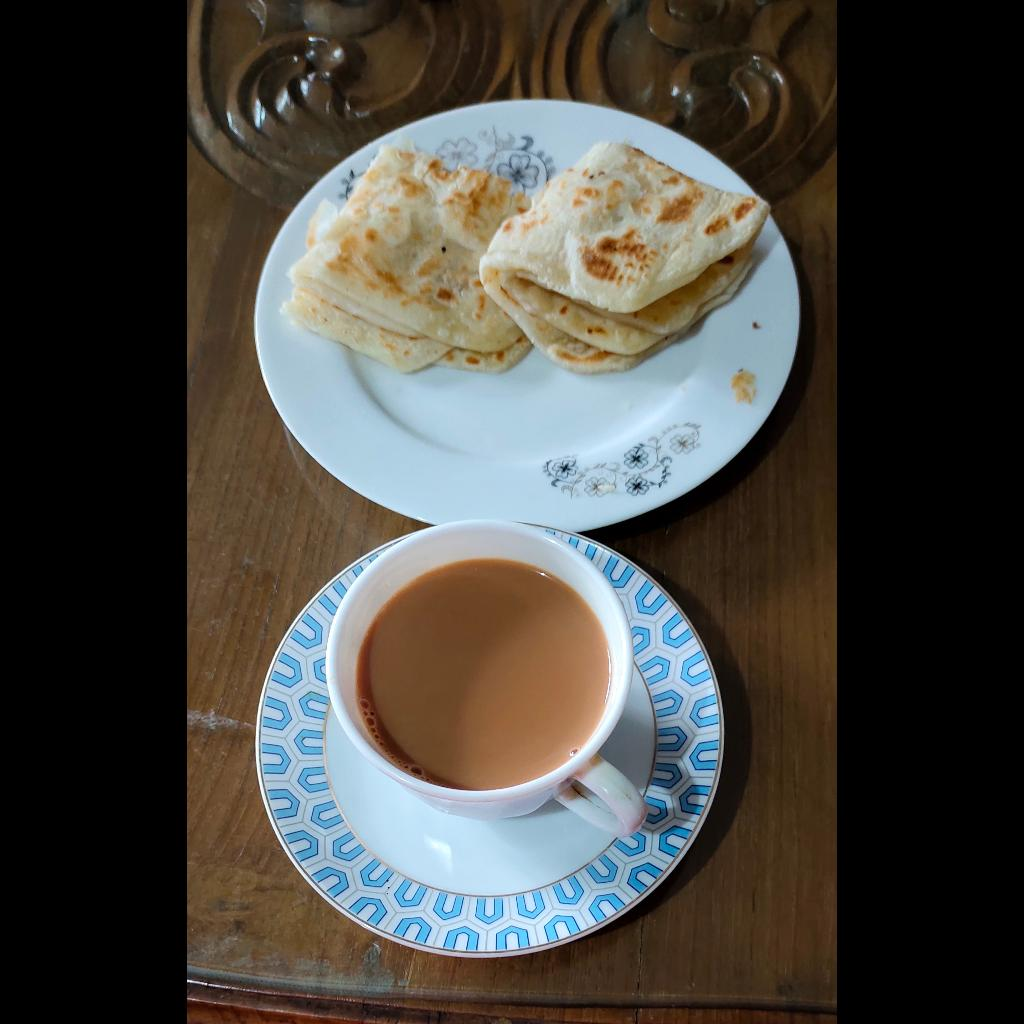cha: (354, 554, 615, 787)
ruti: (286, 133, 776, 376)
